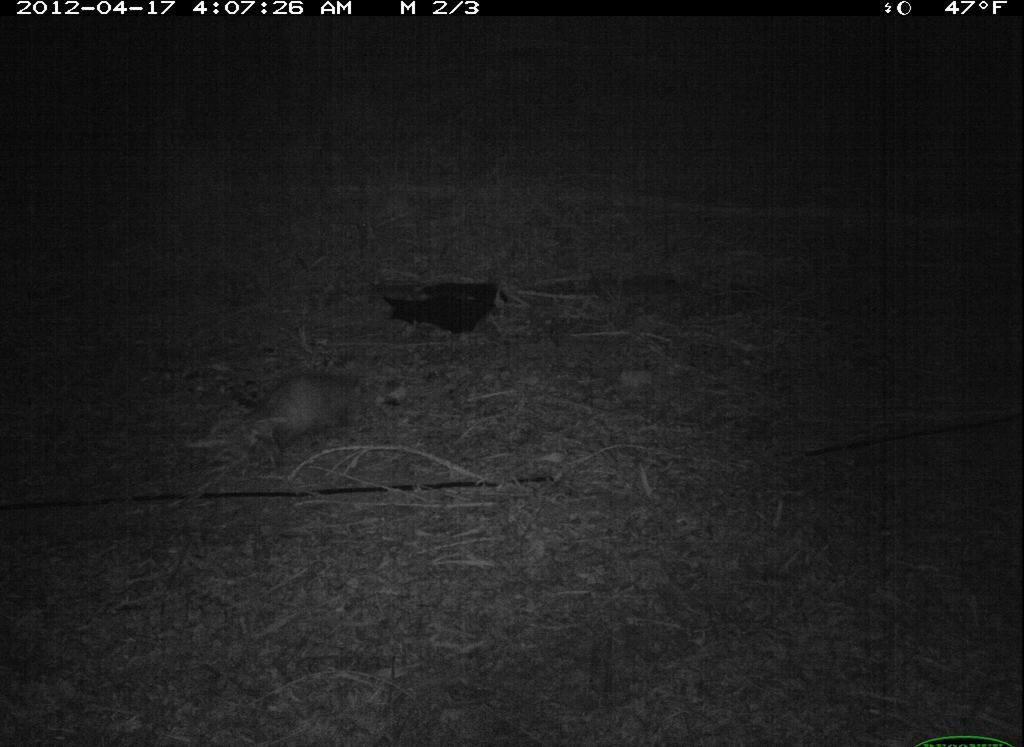opossum: (205, 363, 379, 489)
